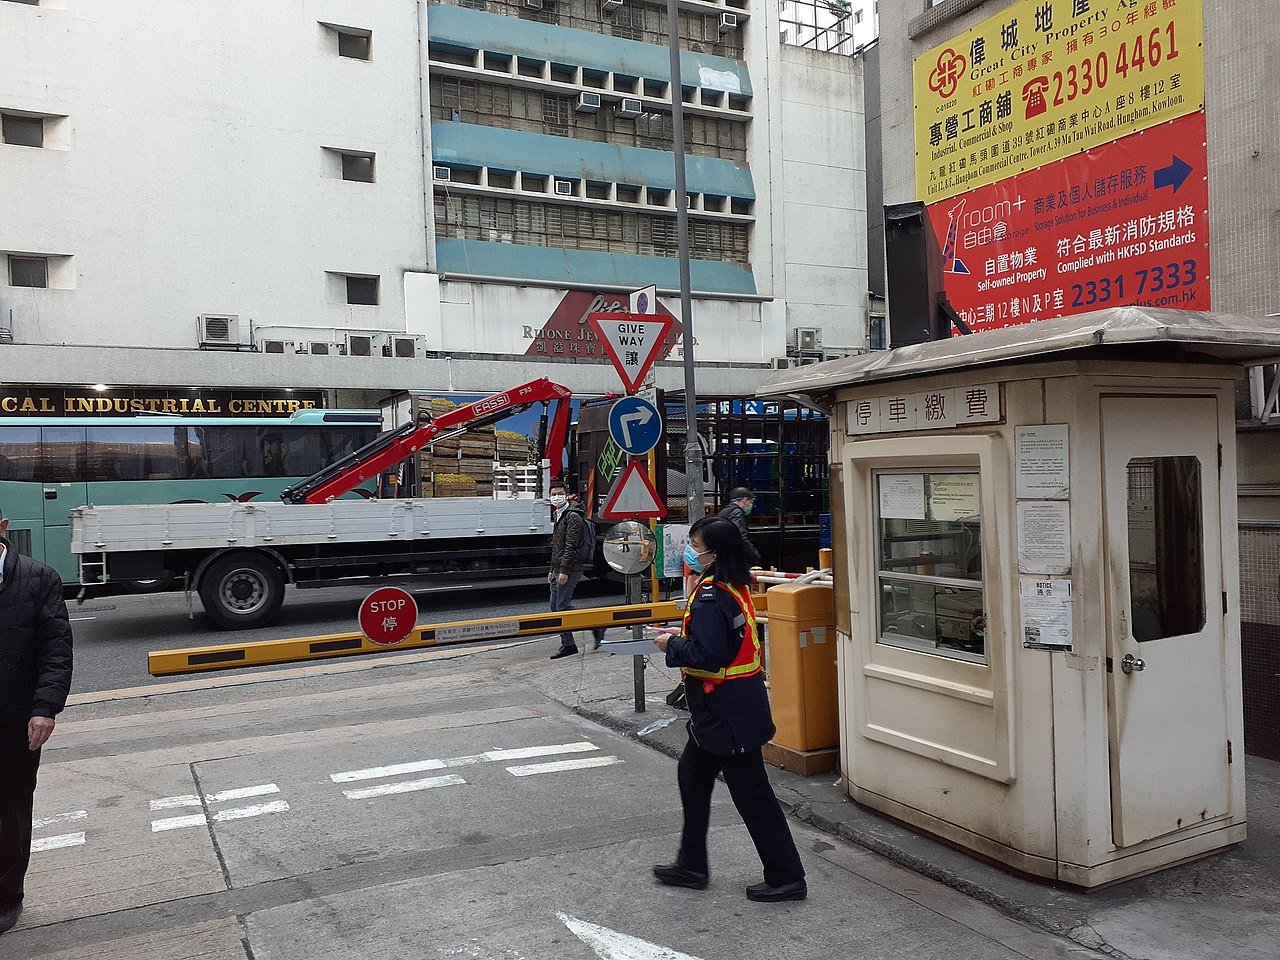Give Way: (586, 311, 672, 390)
Turn Right: (603, 393, 668, 456)
